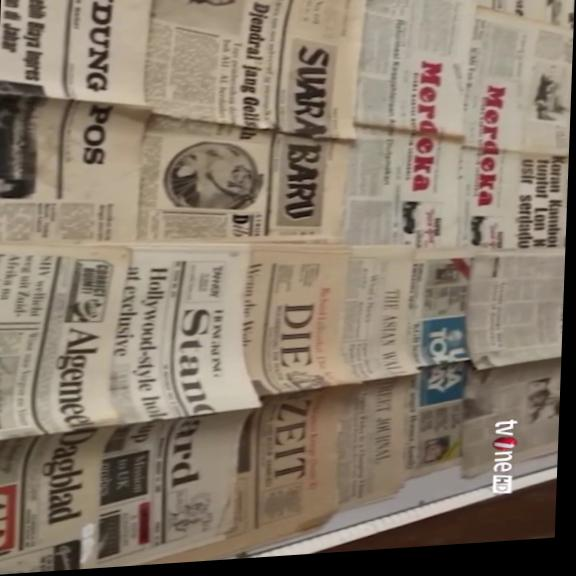Kertas: (0, 0, 360, 219), (0, 224, 267, 440), (0, 405, 259, 576), (462, 249, 565, 371), (458, 357, 560, 479)
